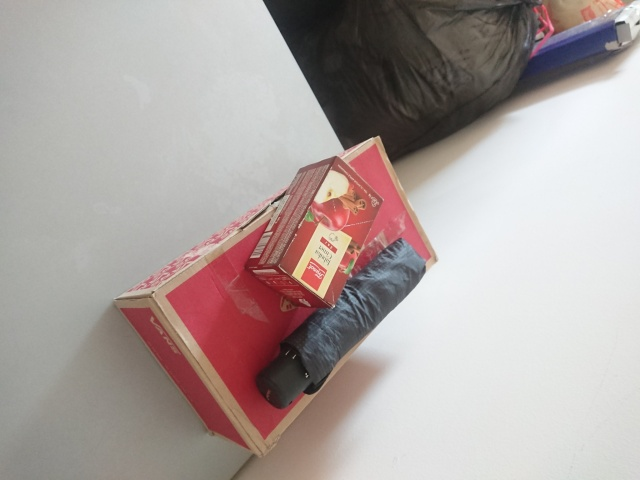Franck Apple Cinnamon Tea 60g: (242, 152, 385, 310)
